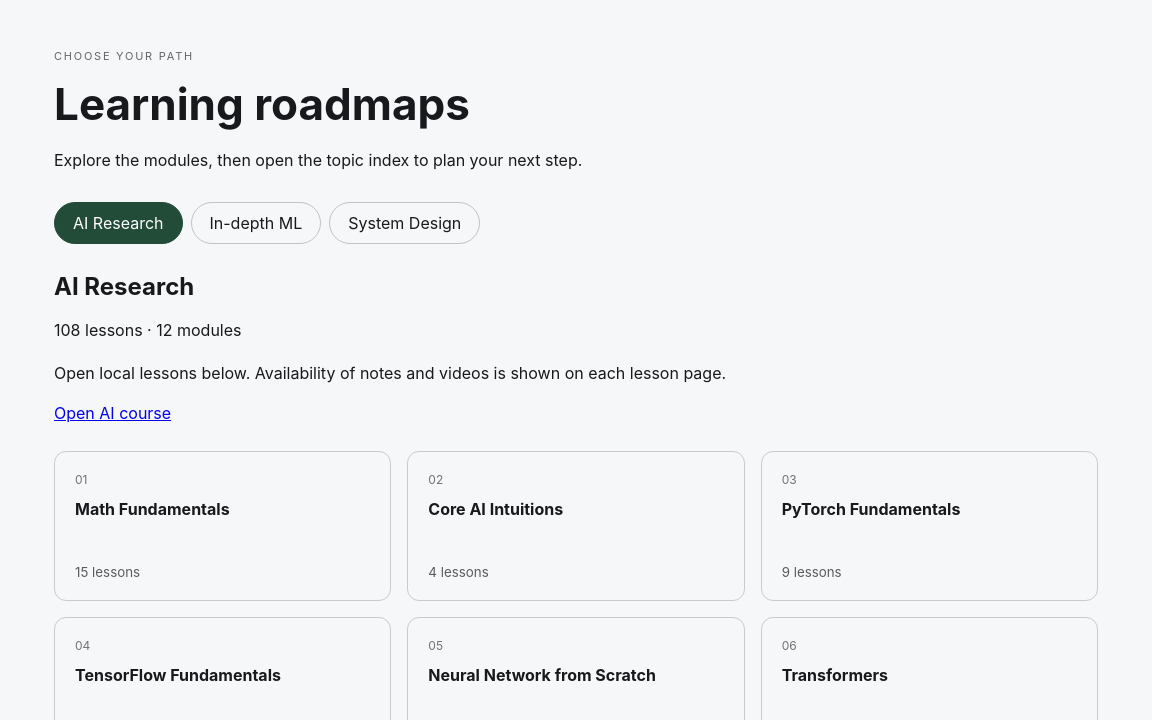
Test: switches tracks, exposes preview limits, and supports keyboard tab navigation
This screenshot has width=1152, height=720.
Click the tab "In-depth ML" at (256, 223), box [190, 202, 321, 244]
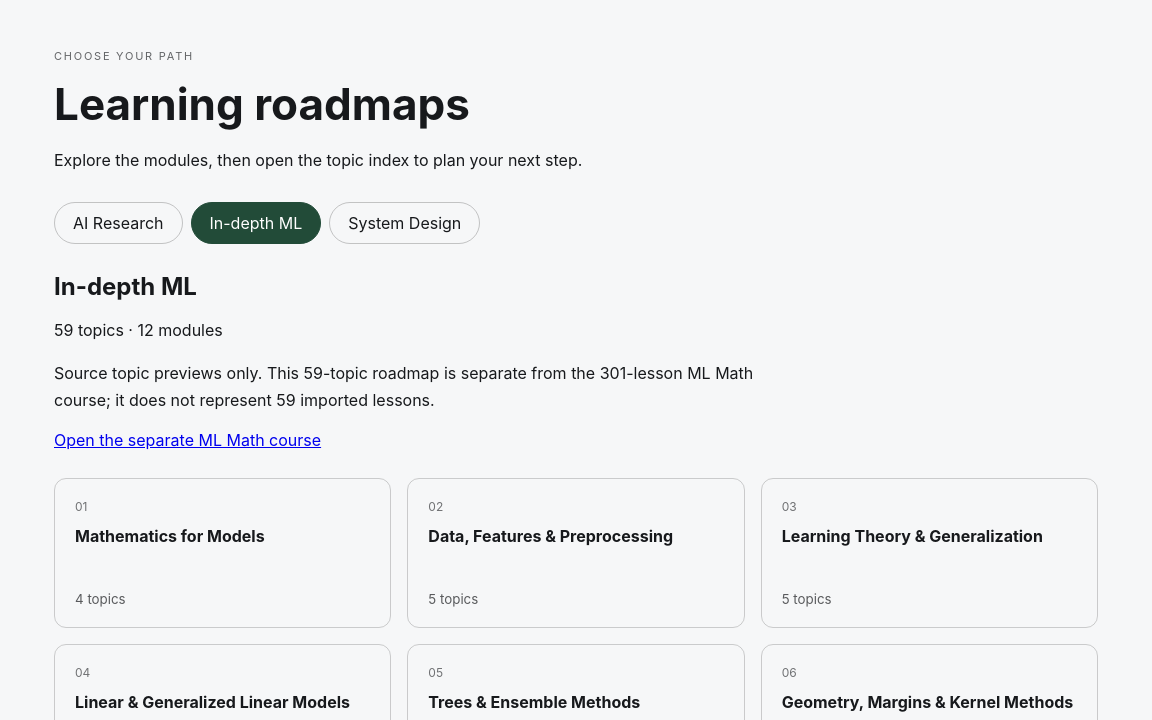
Expected: the text "59 topics · 12 modules" is shown, [54, 320, 223, 340]
Expected: the text "separate from the 301-lesson" is shown, [54, 363, 753, 410]
Press ArrowRight in the tab "In-depth ML", box [190, 202, 321, 244]
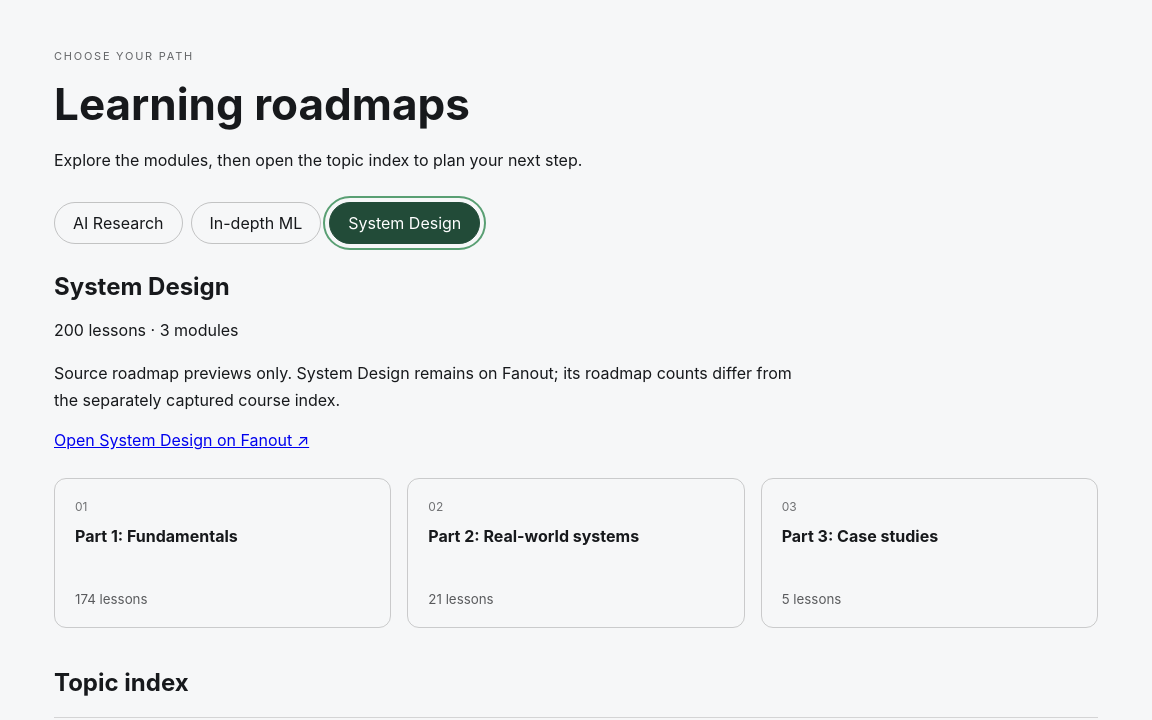
Expected: the text "200 lessons · 3 modules" is shown, [54, 320, 239, 340]
